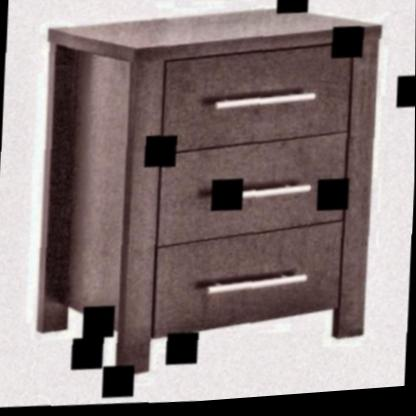Nightstand: (22, 0, 388, 396)
